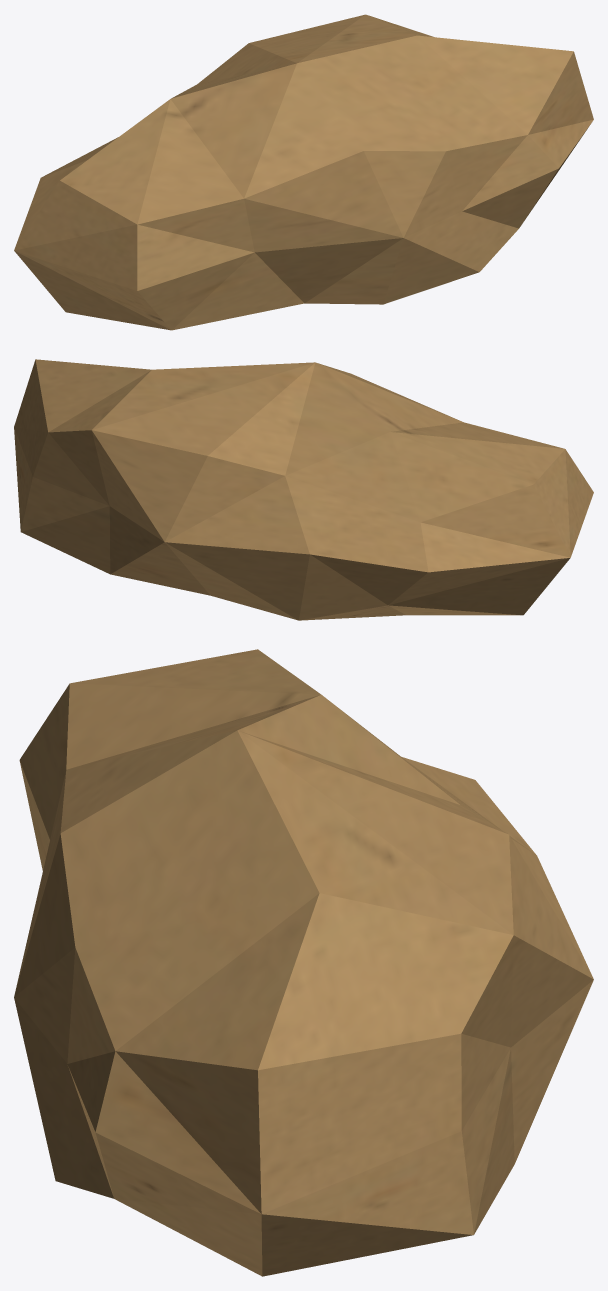
The model's file is part_rock_big.fbx.
The picture shows the model from 3 angles, top to bottom: view 1: azimuth 30°, elevation 25°; view 2: azimuth 150°, elevation 25°; view 3: azimuth 270°, elevation 25°; orthographic projection. The views are drawn at different scales.
Visible parts, largest first — view 1: Cube; view 2: Cube; view 3: Cube.
Boxes of the visible parts, <box> form: Cube: <box>14,14,593,330</box>; Cube: <box>14,359,593,620</box>; Cube: <box>14,649,593,1276</box>.
Size of the model in its own units: 101 by 37.37 by 51.48.
Materials: 1 (1 with a texture image).
